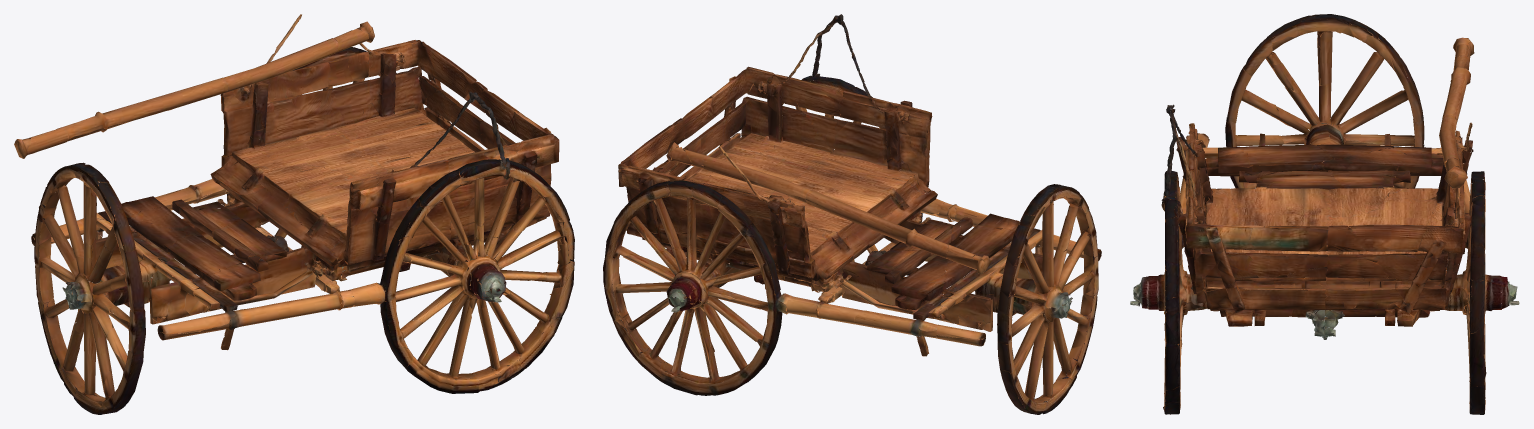
File: hand-cart.glb
3 views of the same model, side by side, from view 1: azimuth 30°, elevation 25°; view 2: azimuth 150°, elevation 25°; view 3: azimuth 270°, elevation 25° (orthographic). The views are drawn at different scales.
Visible parts, largest first — view 1: Mesh_0; view 2: Mesh_0; view 3: Mesh_0.
Boxes of the visible parts, x1,y1,x2,y2 form: Mesh_0: (14, 14, 574, 414); Mesh_0: (603, 14, 1101, 414); Mesh_0: (1130, 14, 1519, 414).
Size of the model in its own units: 1.9 by 1.26 by 1.49.
Materials: 1 (1 with a texture image).
